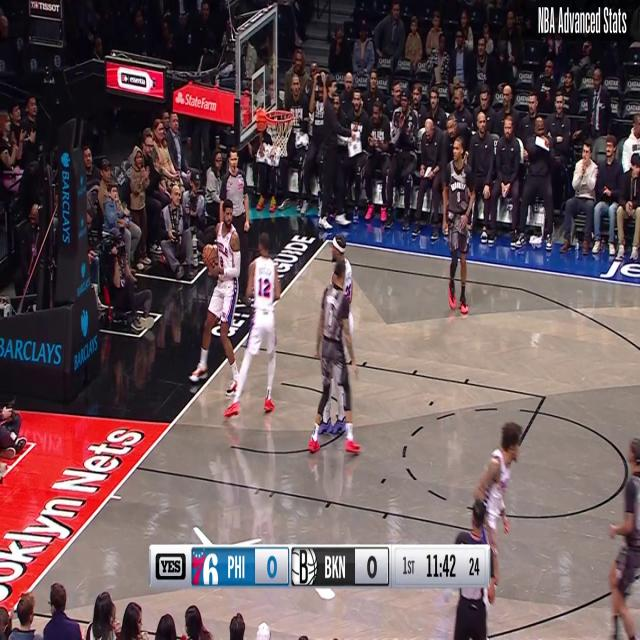ball: (201, 242, 219, 271)
player: (188, 196, 242, 398), (472, 424, 534, 586), (230, 235, 282, 415), (312, 262, 359, 458), (601, 429, 639, 640), (323, 223, 351, 437), (440, 132, 472, 304)
